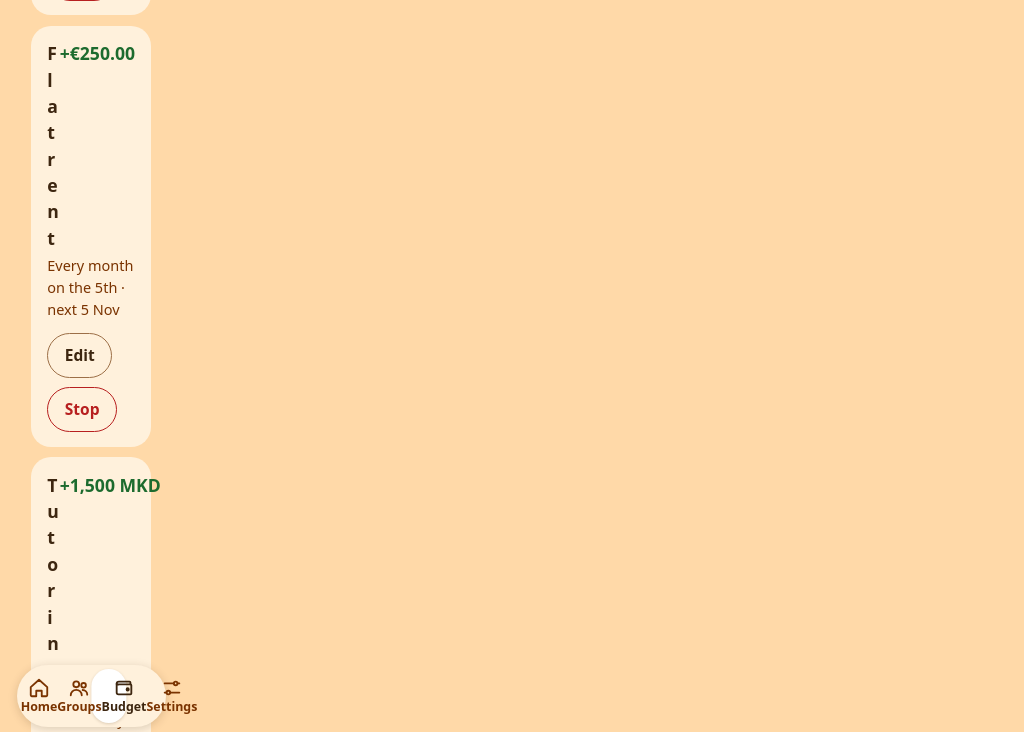
Test: the repeating income screen › Edit › opens the income sheet filled in with that income, in 1 tap
(page scrolled)
Step 1. Click the button "Edit" → (80, 356), box left=47, top=333, right=112, bottom=378
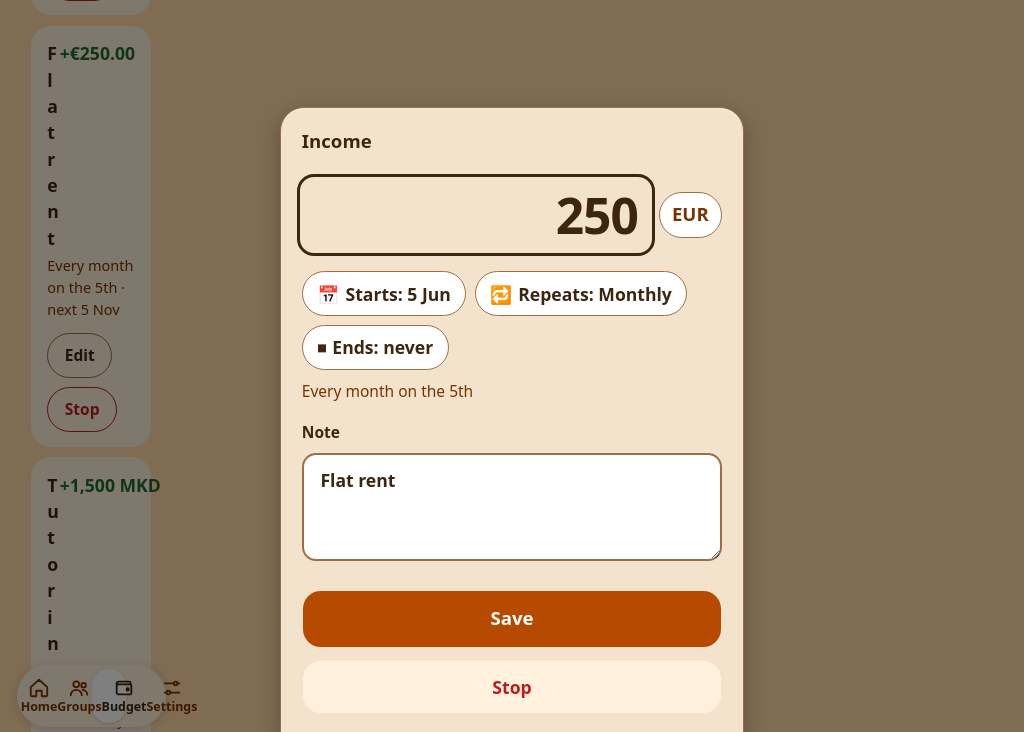
Now the field named "Amount" holds "250", box left=300, top=177, right=652, bottom=253
